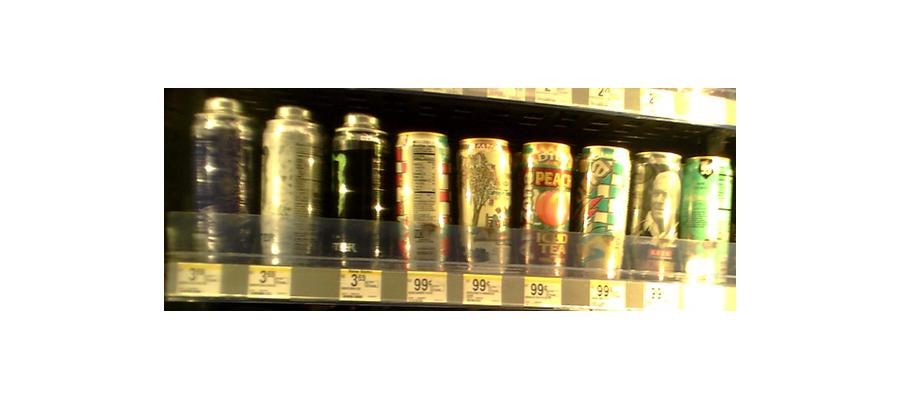bottle: (259, 106, 326, 265), (190, 96, 252, 262), (328, 113, 388, 269), (394, 128, 452, 272), (457, 131, 514, 272), (575, 143, 632, 279), (519, 139, 573, 277), (686, 156, 734, 291), (634, 147, 682, 280)
